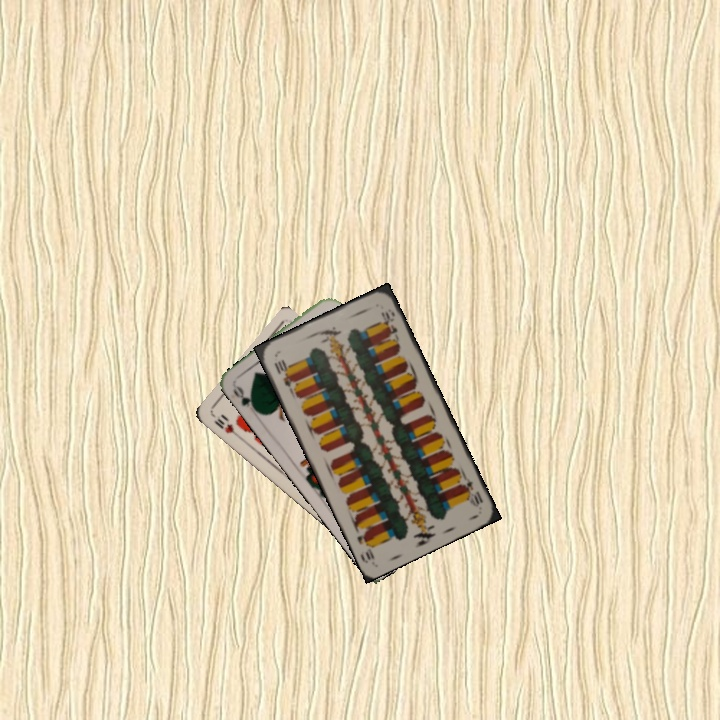E10: (457, 472, 486, 510), (270, 355, 296, 389)
GO: (229, 381, 262, 416)
H10: (209, 410, 243, 441)
